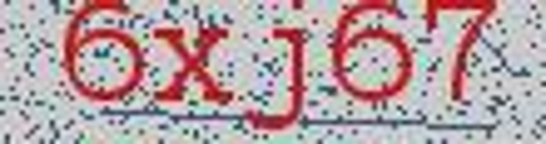6: (56, 2, 147, 108), (327, 1, 417, 108)
7: (421, 1, 502, 108)
j: (242, 1, 316, 136)
x: (149, 19, 236, 111)
